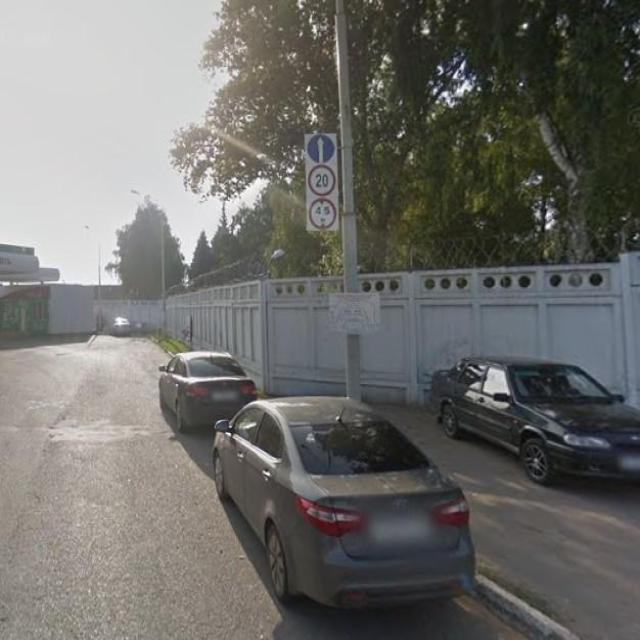forb_speed_over_20: (306, 163, 339, 200)
